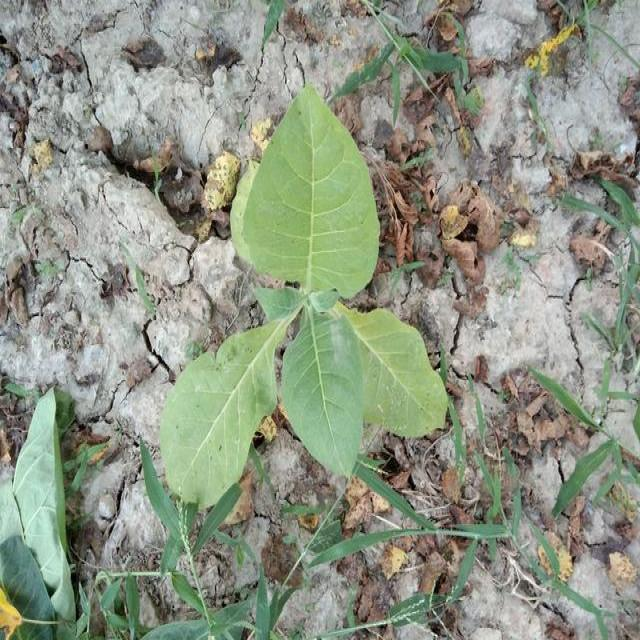crop: (155, 80, 450, 507)
